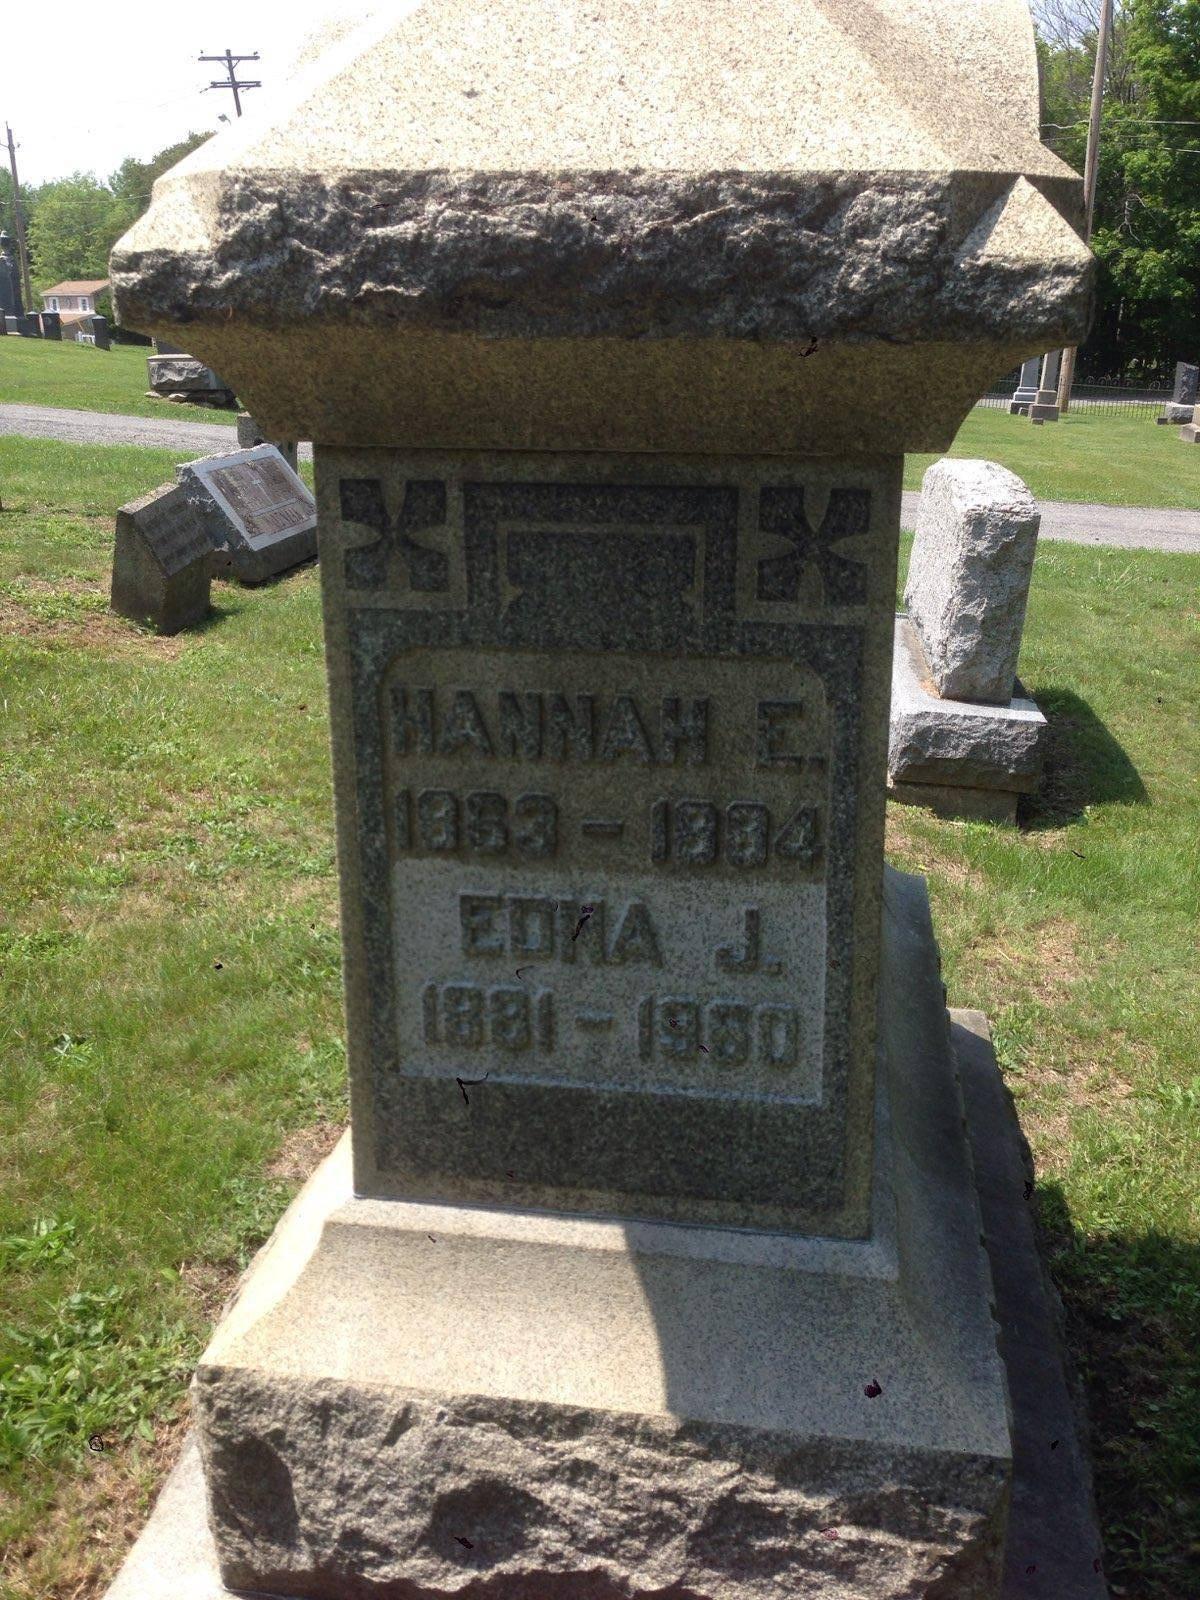obelisk: (105, 0, 1088, 1600)
